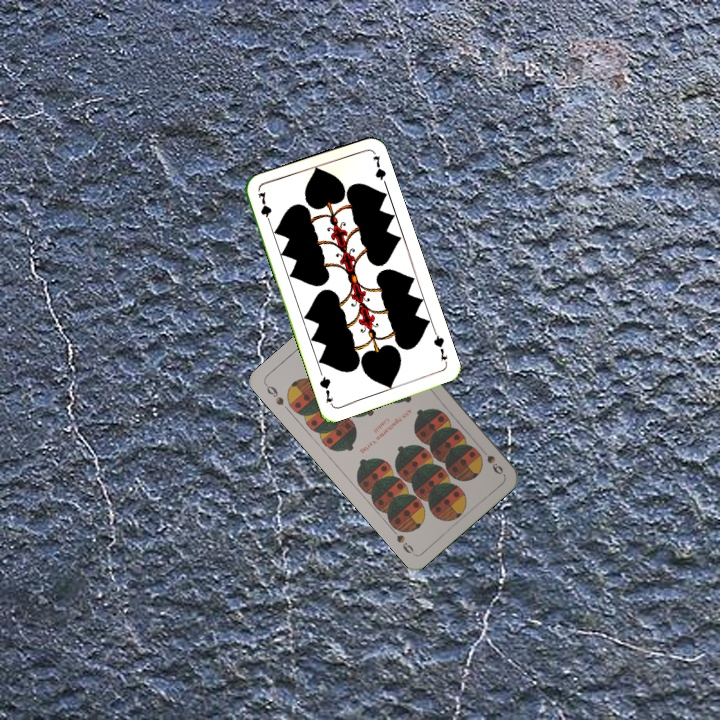G7: (254, 188, 274, 228), (429, 328, 450, 363)
S9: (475, 443, 506, 477), (261, 380, 286, 408)
